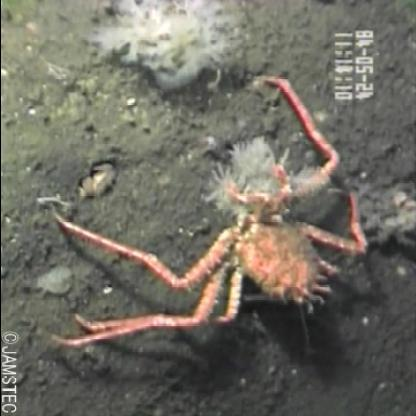Bio: (44, 70, 370, 350)
